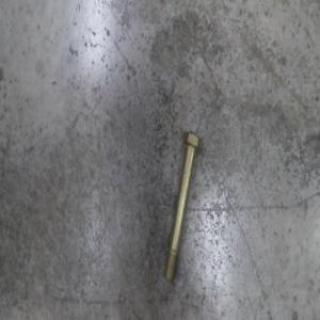Bolttrack_idkeyframe: (162, 128, 200, 282)
